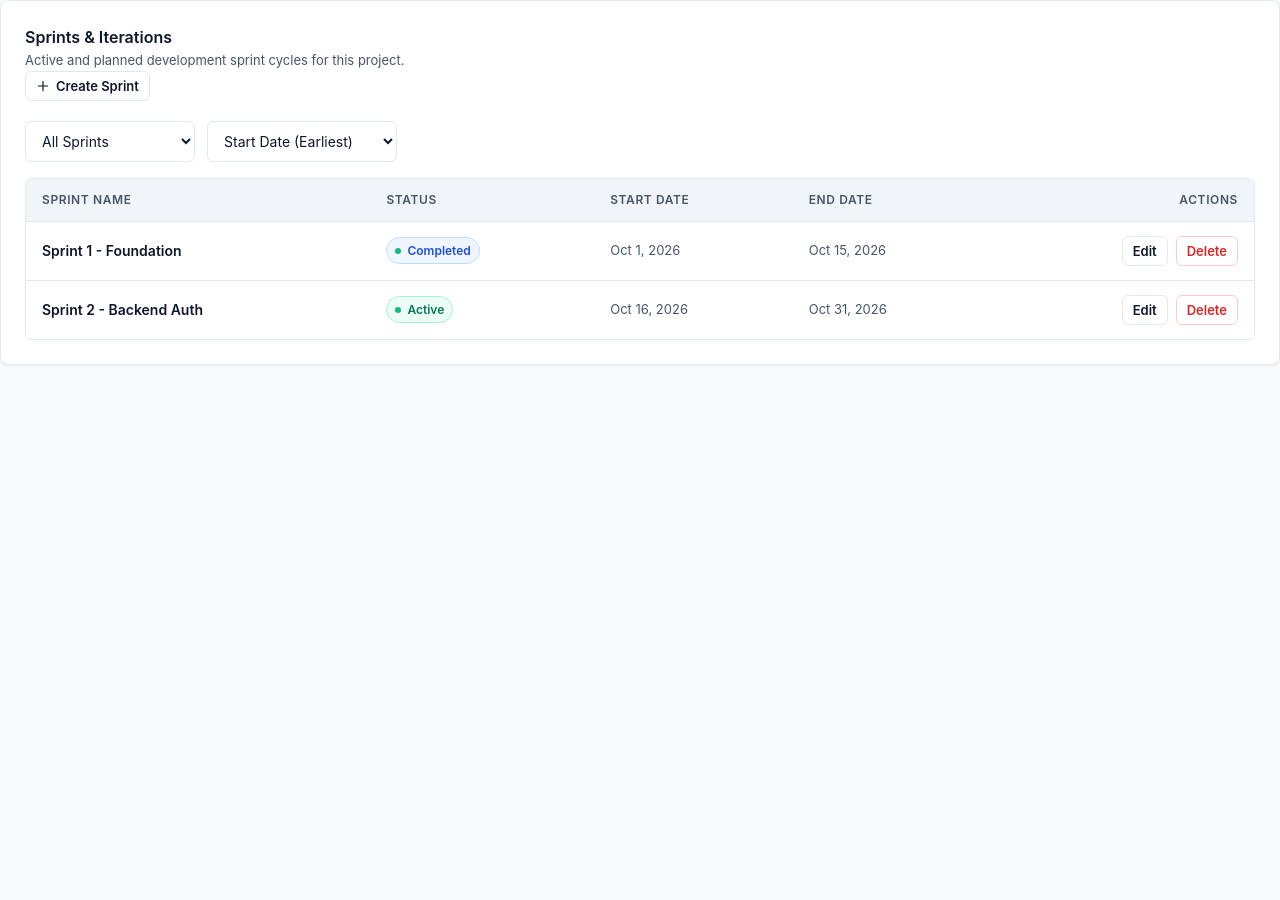
it: SprintList Component › opens delete confirmation and deletes sprint
The image size is (1280, 900).
Check: the text "Sprint 1 - Foundation" is shown, box [26,221,370,280]
Click the button with aria-label "Delete Sprint 1 - Foundation" at point(1207, 250), box [1176,236,1238,266]
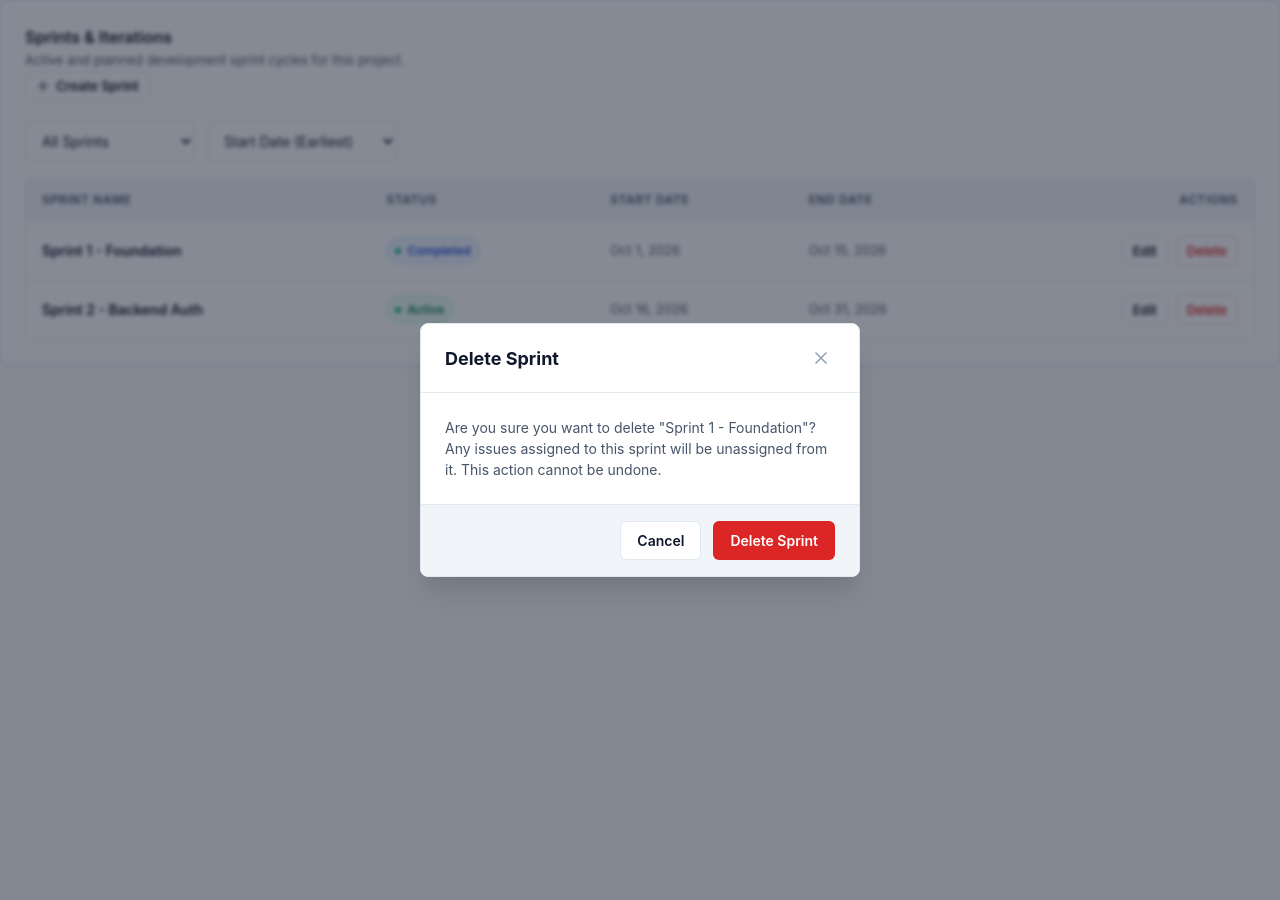
Check: the heading "Delete Sprint" is shown, box [445,344,559,372]
Check: the text "Are you sure you want to delete \"Sprint 1 - Foundation\"?" is shown, box [445,419,827,478]
// Confirm delete inside modal
Click the button "Delete Sprint" at point(774, 540), box [713,521,835,560]
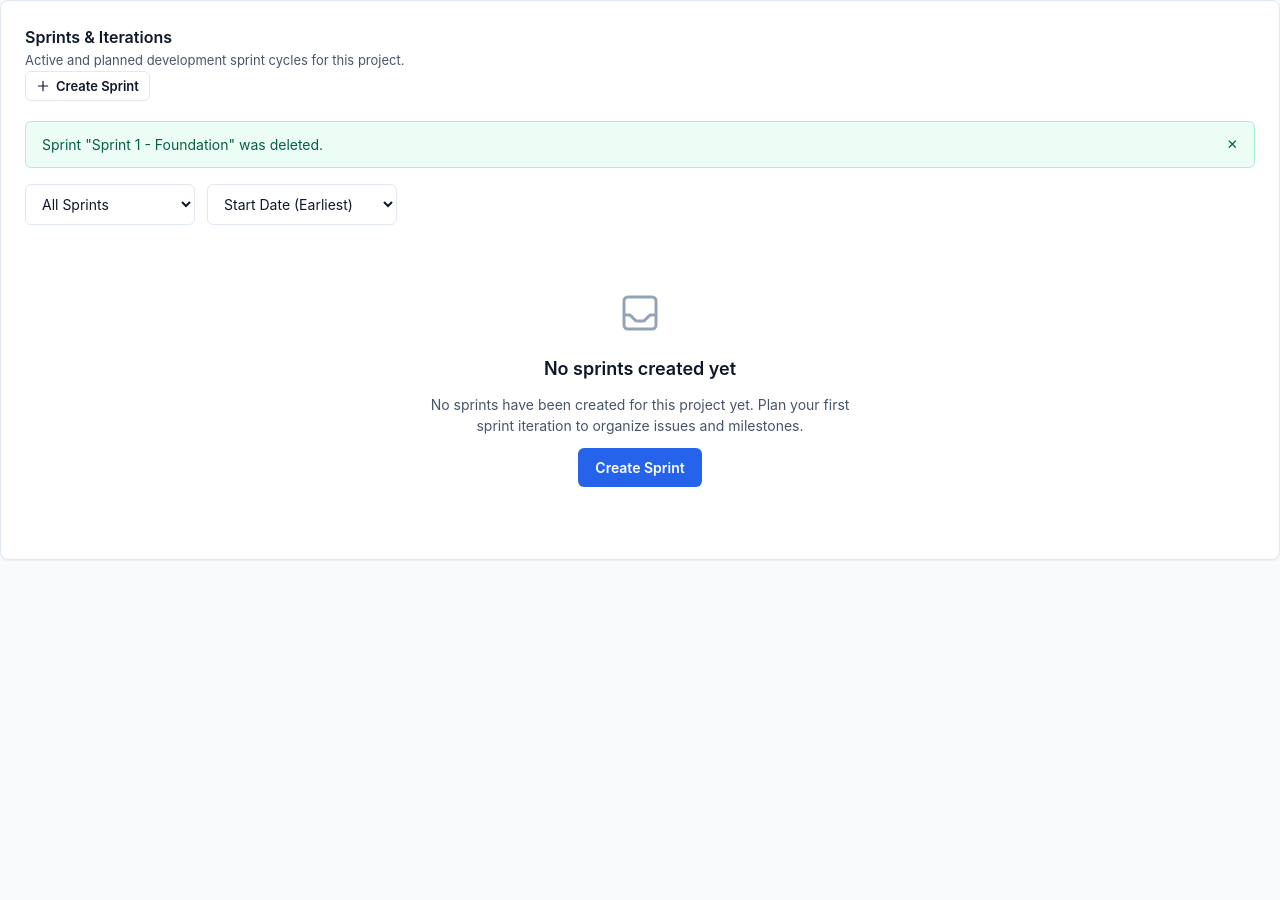
Check: the text "Sprint \"Sprint 1 - Foundation\" was deleted." is shown, box [42,134,323,154]
